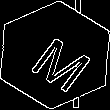M_NE: (18, 21, 92, 89)
